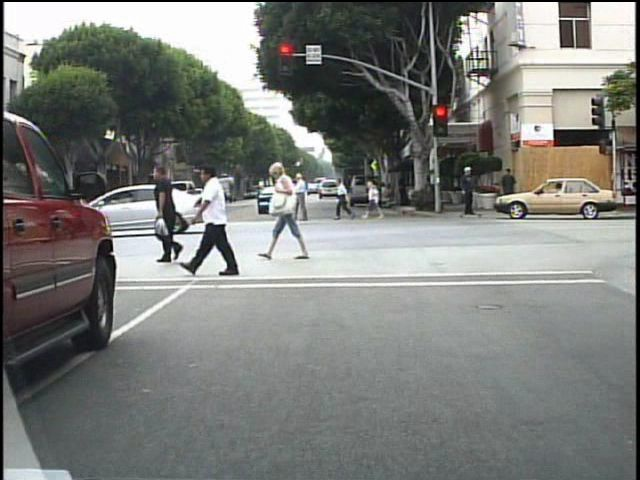person: (194, 159, 251, 278), (150, 160, 197, 267), (267, 160, 313, 264), (293, 170, 314, 225), (455, 162, 474, 221), (272, 175, 294, 224), (335, 174, 355, 224), (159, 176, 177, 231), (120, 177, 139, 226), (4, 189, 23, 237), (499, 166, 517, 212), (9, 197, 27, 237)
